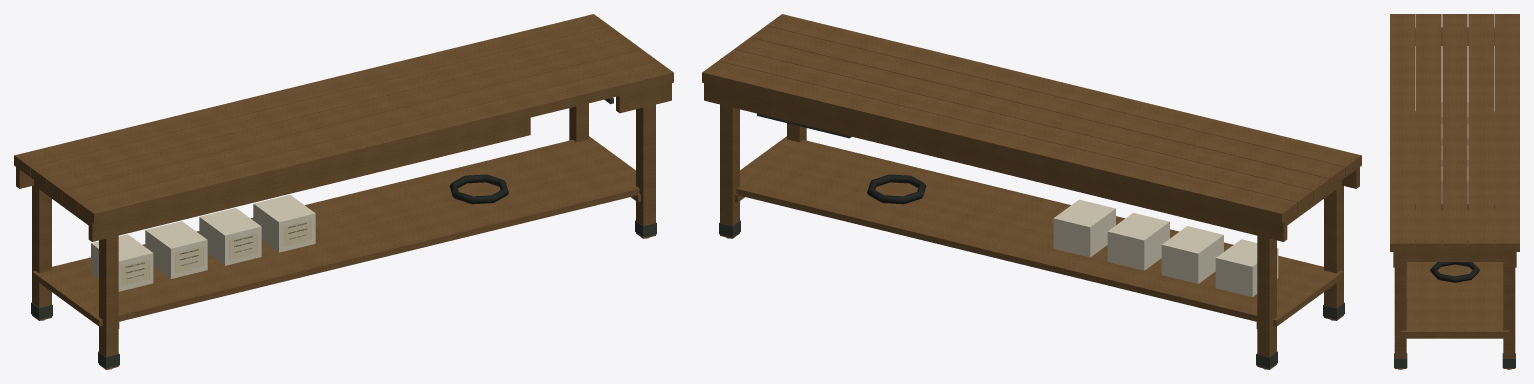
File: SM_FieldKit_TimingBench_LOD1.fbx
3 views of the same model, side by side, from view 1: azimuth 30°, elevation 25°; view 2: azimuth 150°, elevation 25°; view 3: azimuth 270°, elevation 25° (orthographic). The views are drawn at different scales.
Parts seen in each view (by area): view 1: SM_FieldKit_TimingBench_LOD1; view 2: SM_FieldKit_TimingBench_LOD1; view 3: SM_FieldKit_TimingBench_LOD1.
Boxes of the visible parts, x1,y1,x2,y2 form: SM_FieldKit_TimingBench_LOD1: [14, 14, 673, 369]; SM_FieldKit_TimingBench_LOD1: [702, 14, 1361, 369]; SM_FieldKit_TimingBench_LOD1: [1390, 14, 1519, 369].
Bounding box in the file's own units: 3 × 0.717 × 0.812.
